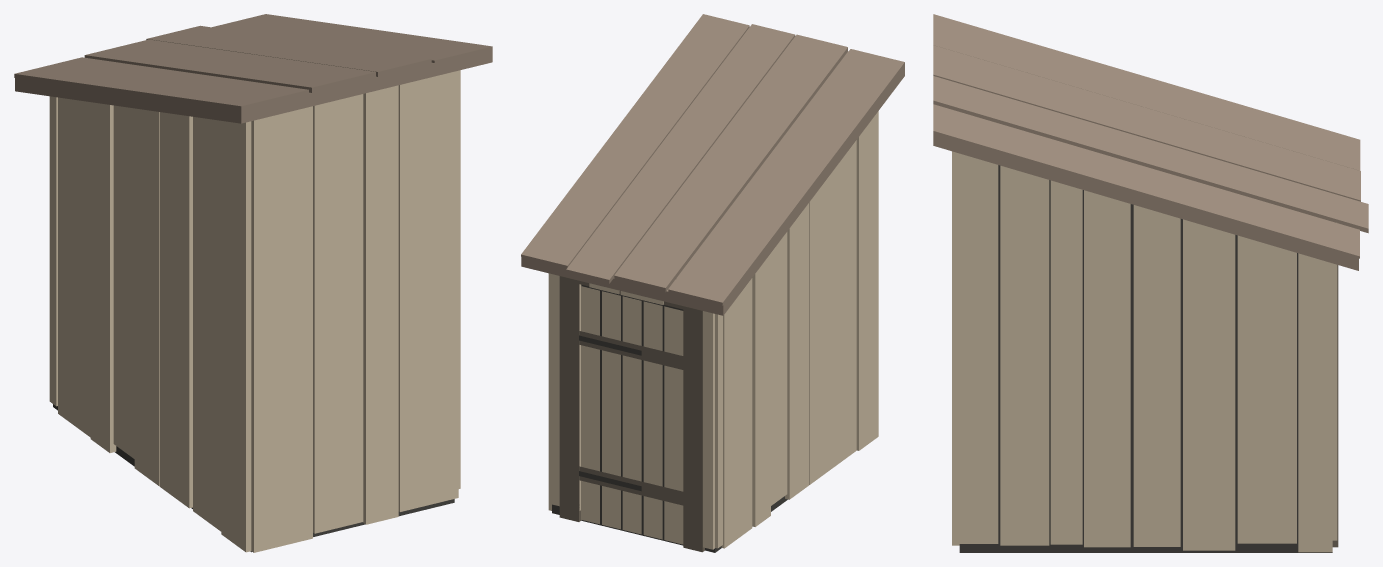
The model's file is recon_1835_blk_randolph_franklin_a3_08__inferred_1835.glb.
3 renders of one model, left to right at view 1: azimuth 30°, elevation 25°; view 2: azimuth 150°, elevation 25°; view 3: azimuth 270°, elevation 25°, orthographic. The views are drawn at different scales.
Visible parts, largest first — view 1: recon_1835_blk_randolph_franklin_a3_08__inferred_1835; view 2: recon_1835_blk_randolph_franklin_a3_08__inferred_1835; view 3: recon_1835_blk_randolph_franklin_a3_08__inferred_1835.
Part boxes in pixels (x1,y1,x2,y2): recon_1835_blk_randolph_franklin_a3_08__inferred_1835: (14,14,492,552); recon_1835_blk_randolph_franklin_a3_08__inferred_1835: (521,14,904,552); recon_1835_blk_randolph_franklin_a3_08__inferred_1835: (933,14,1368,552).
Size of the model in its own units: 1.67 by 2.94 by 2.66.
